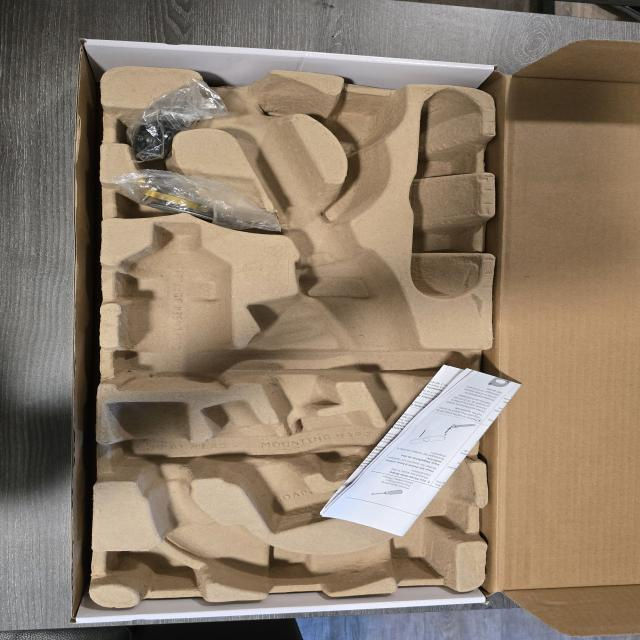1m: (106, 72, 473, 588)
2m: (201, 400, 403, 530)
3m: (119, 221, 228, 389)
4m: (406, 88, 480, 298)
5m: (329, 97, 398, 148)
6: (112, 168, 284, 232)
7: (125, 79, 233, 163)
8: (318, 362, 523, 537)
